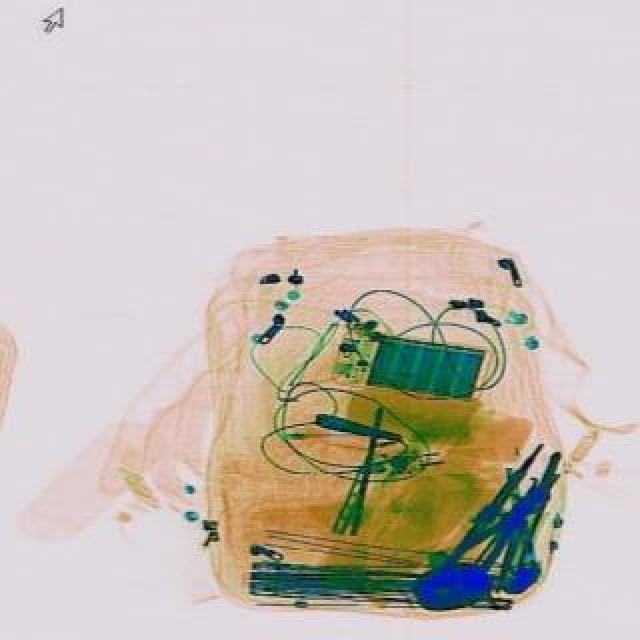wrench: (438, 456, 584, 602)
